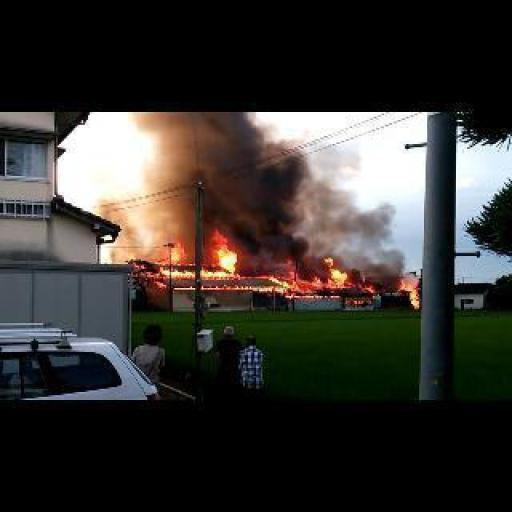smoke: (131, 109, 330, 254), (332, 187, 406, 293), (270, 258, 381, 292), (162, 240, 242, 278), (125, 258, 166, 288), (174, 285, 282, 293), (400, 282, 419, 307), (283, 294, 341, 300), (348, 301, 374, 304)
